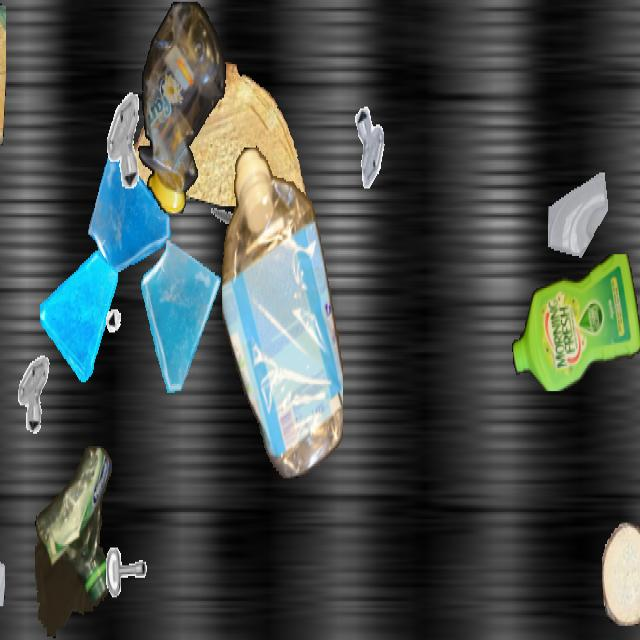glass: (135, 236, 227, 400), (87, 135, 175, 292), (40, 244, 118, 382), (548, 171, 610, 281), (0, 526, 5, 636)
metal: (93, 89, 151, 192), (100, 539, 156, 638), (348, 101, 396, 187), (7, 348, 55, 434), (206, 185, 250, 263), (103, 277, 141, 345)
plastic: (222, 144, 342, 478), (137, 2, 227, 212), (512, 255, 640, 390), (35, 443, 113, 638)
wood: (131, 62, 317, 204), (602, 522, 640, 626), (0, 2, 6, 144)
